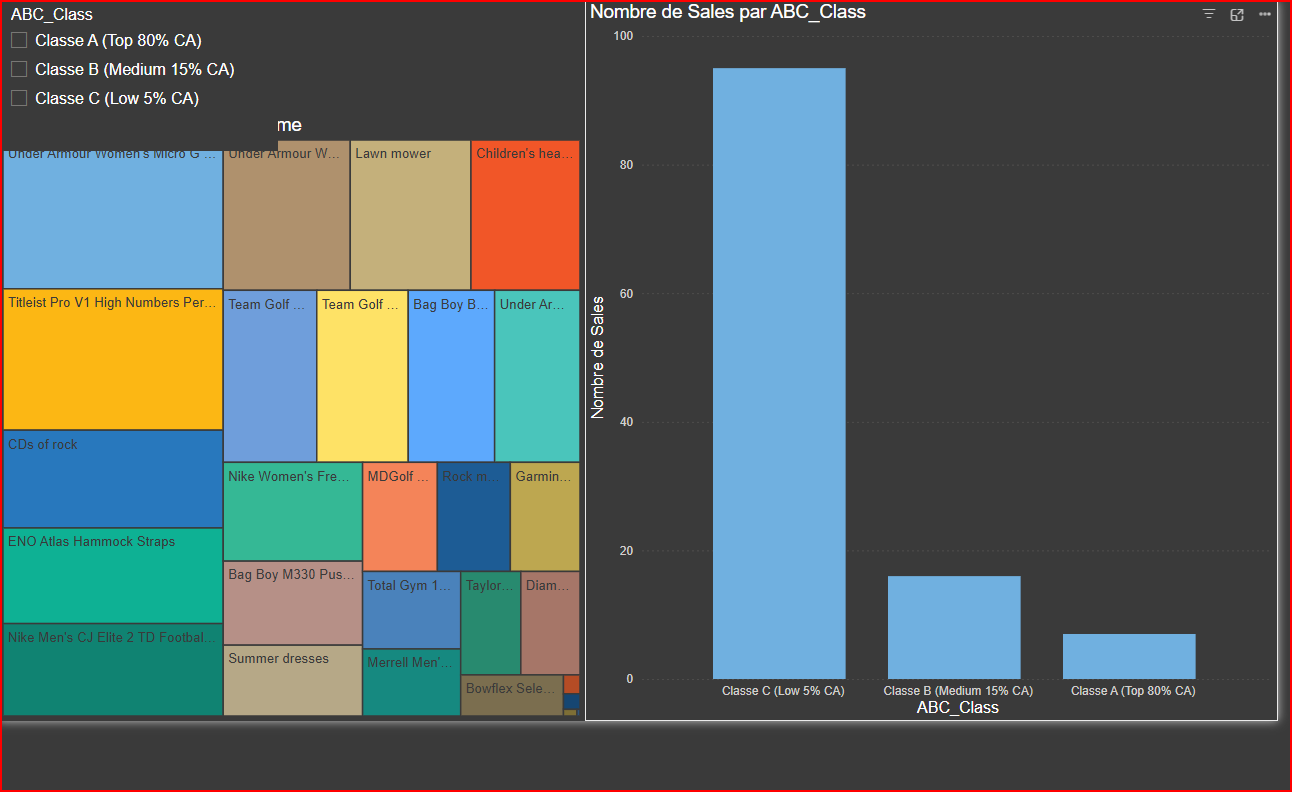

This screenshot's page, from the dashboard's own definition file:
{"tool":"powerbi","page":{"name":"Analyse ABC & Optimisation d'Entrepôt","canvas":[1280,720],"ordinal":1},"visuals":[{"type":"columnChart","fields":{"Category":["product_abc_segmentation.ABC_Class"],"Y":["CountNonNull(product_abc_segmentation.Sales)"]},"box":[586.7,0,693.3,720],"z":0},{"type":"treemap","fields":{"Group":["product_abc_segmentation.Product Name"],"Values":["Sum(product_abc_segmentation.Sales)"]},"box":[0,113.3,586.7,606.7],"z":1000},{"type":"slicer","fields":{"Values":["product_abc_segmentation.ABC_Class"]},"box":[0,0,280,150],"z":2000}]}

Visuals, with their boxes on the page's 1280x720 design canvas (x1, y1, x2, y2). These are canvas units, not pixel positions in the 1292x792 screenshot, which may show the page scaled, cropped or inside an application window:
columnChart - product_abc_segmentation.ABC_Class x CountNonNull(product_abc_segmentation.Sales): region(587, 0, 1280, 720)
treemap - product_abc_segmentation.Product Name x Sum(product_abc_segmentation.Sales): region(0, 113, 587, 720)
slicer - product_abc_segmentation.ABC_Class: region(0, 0, 280, 150)
